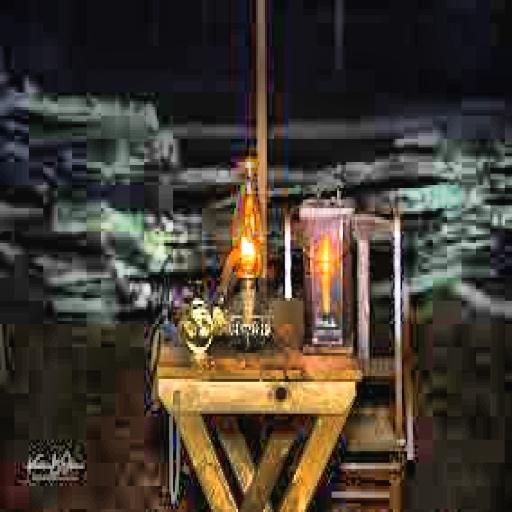fire: (315, 234, 339, 275), (236, 220, 256, 260)
